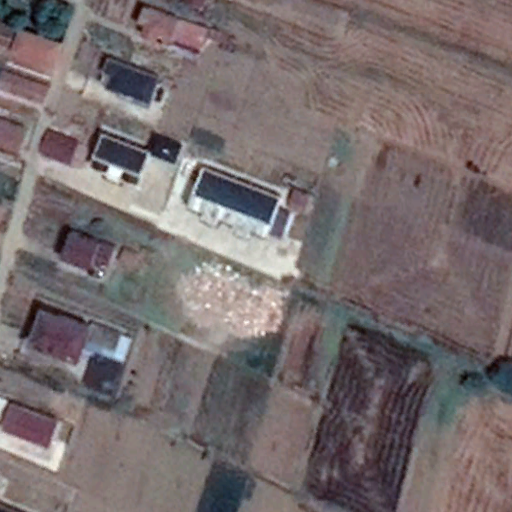msw: (178, 261, 285, 337)
